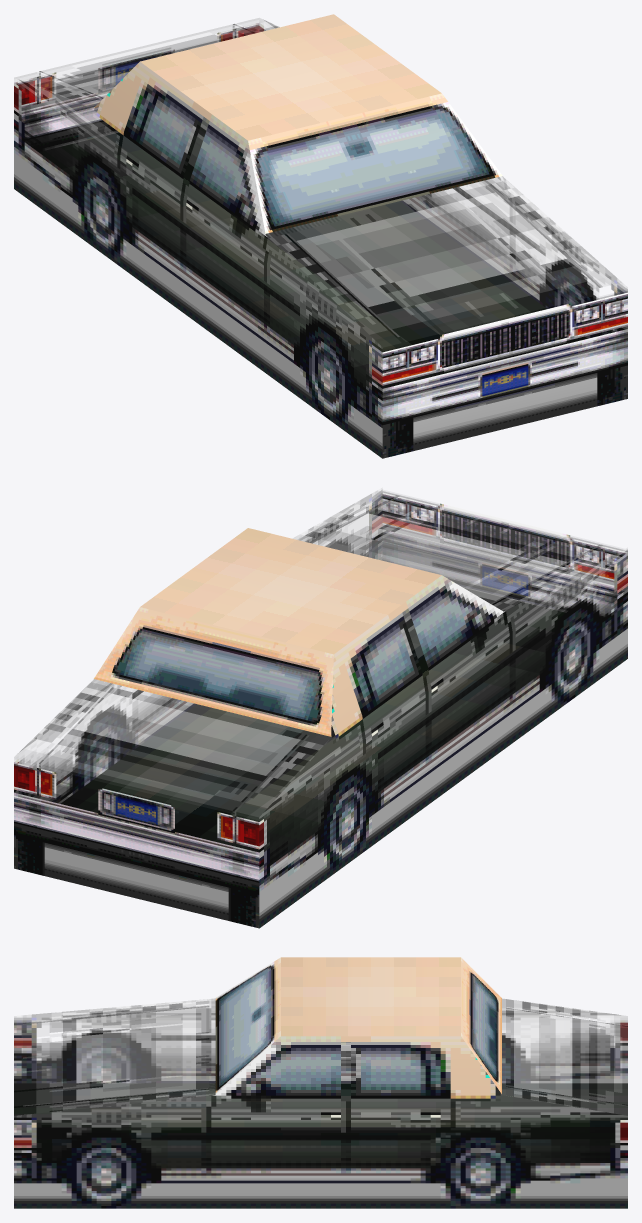
The model's file is glass-193.glb.
3 renders of one model, top to bottom at view 1: azimuth 30°, elevation 25°; view 2: azimuth 150°, elevation 25°; view 3: azimuth 270°, elevation 25°, orthographic. The views are drawn at different scales.
Parts seen in each view (by area): view 1: model; view 2: model; view 3: model.
Part boxes in pixels (bbox=[...]): model: bbox=[14, 14, 627, 458]; model: bbox=[14, 488, 627, 928]; model: bbox=[14, 957, 627, 1208].
Bounding box in the file's own units: 20 × 15.14 × 52.
Materials: 4 (4 with a texture image).
